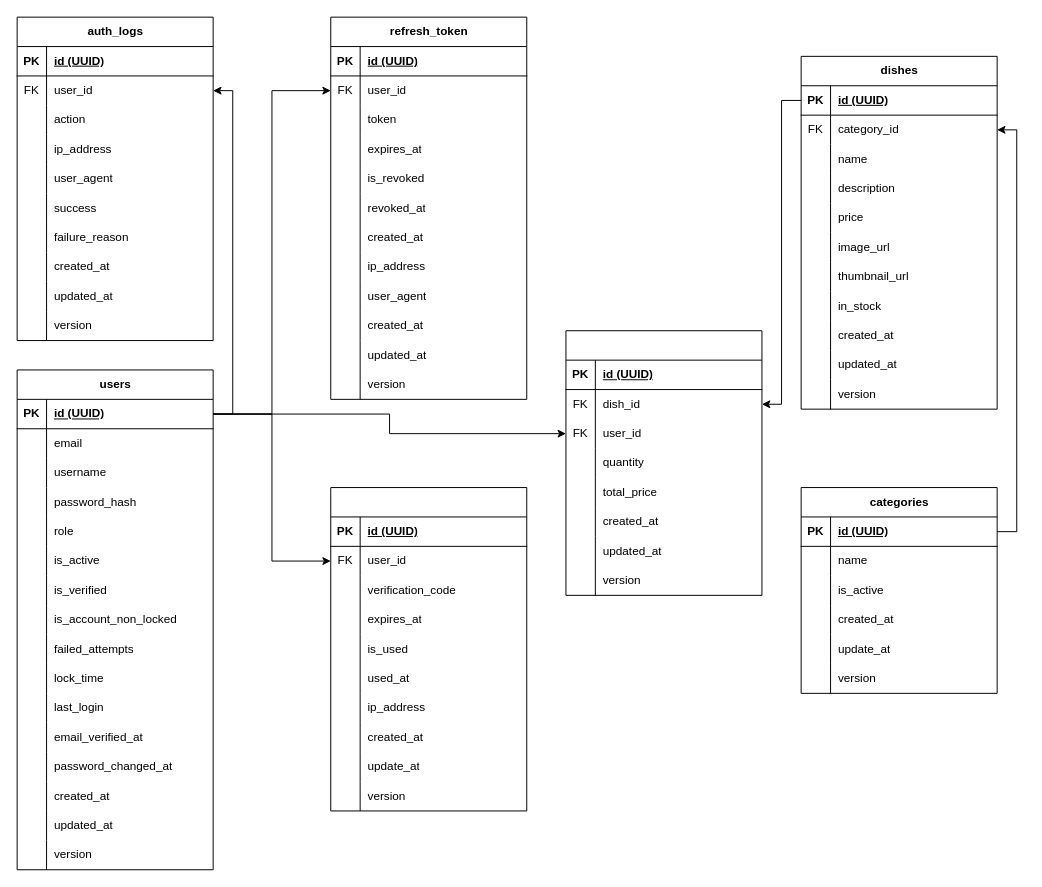
Some shapes in this 1042 by 887 pixel diagram are drawn without their labels. Each missing label, with the box of its shape:
cart_items: (565, 330, 762, 595)
email_verification: (330, 487, 527, 811)
